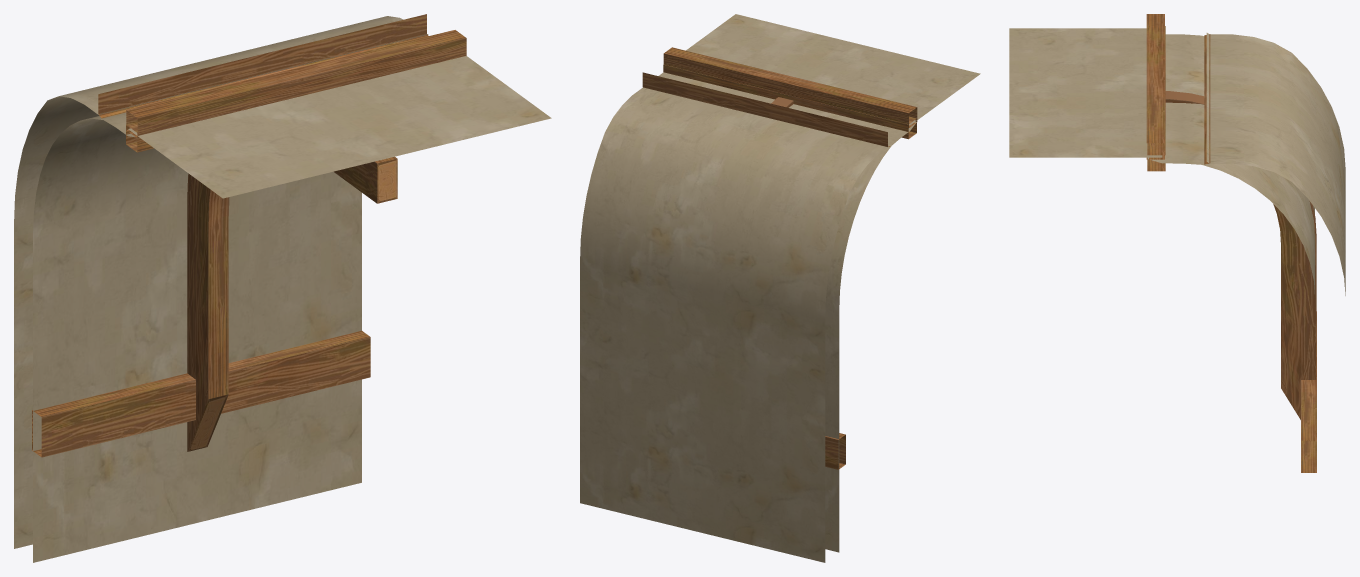
File: Overhang_Plaster_Long.gltf
3 views of the same model, side by side, from view 1: azimuth 30°, elevation 25°; view 2: azimuth 150°, elevation 25°; view 3: azimuth 270°, elevation 25° (orthographic). The views are drawn at different scales.
Visible parts, largest first — view 1: Overhang_Plaster_Long; view 2: Overhang_Plaster_Long; view 3: Overhang_Plaster_Long.
Part boxes in pixels (left/top/right/bottom): Overhang_Plaster_Long: left=14, top=14, right=551, bottom=562; Overhang_Plaster_Long: left=580, top=14, right=980, bottom=562; Overhang_Plaster_Long: left=1009, top=14, right=1345, bottom=472.
Bounding box in the file's own units: 2 × 3.03 × 2.2.
2 materials, 2 textured.
